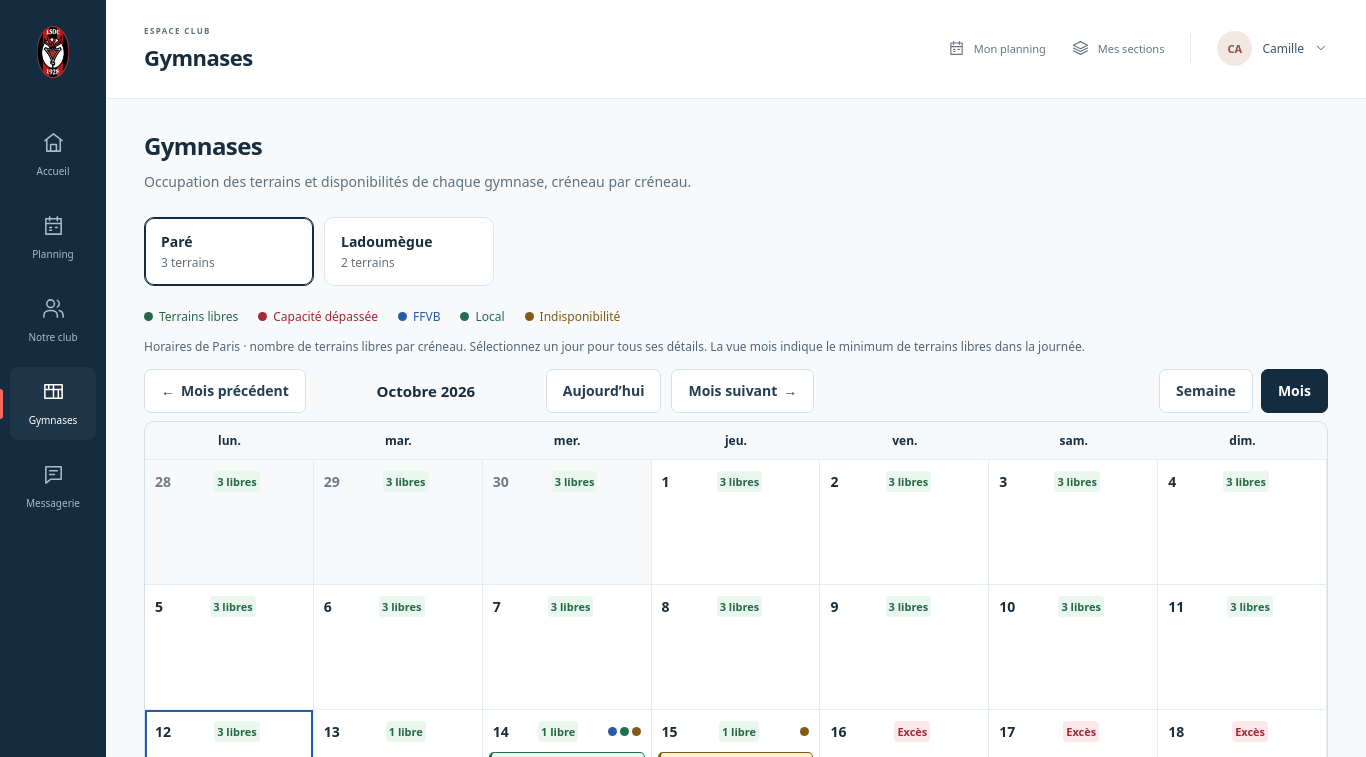
Scenario: charge 42 jours au mois et détaille les créneaux du jour choisi
The width and height of the screenshot is (1366, 757).
Click the button with aria-label "Voir les disponibilités du Jeudi 15 octobre". click: (736, 732)
box: [656, 714, 816, 750]
(page scrolled)
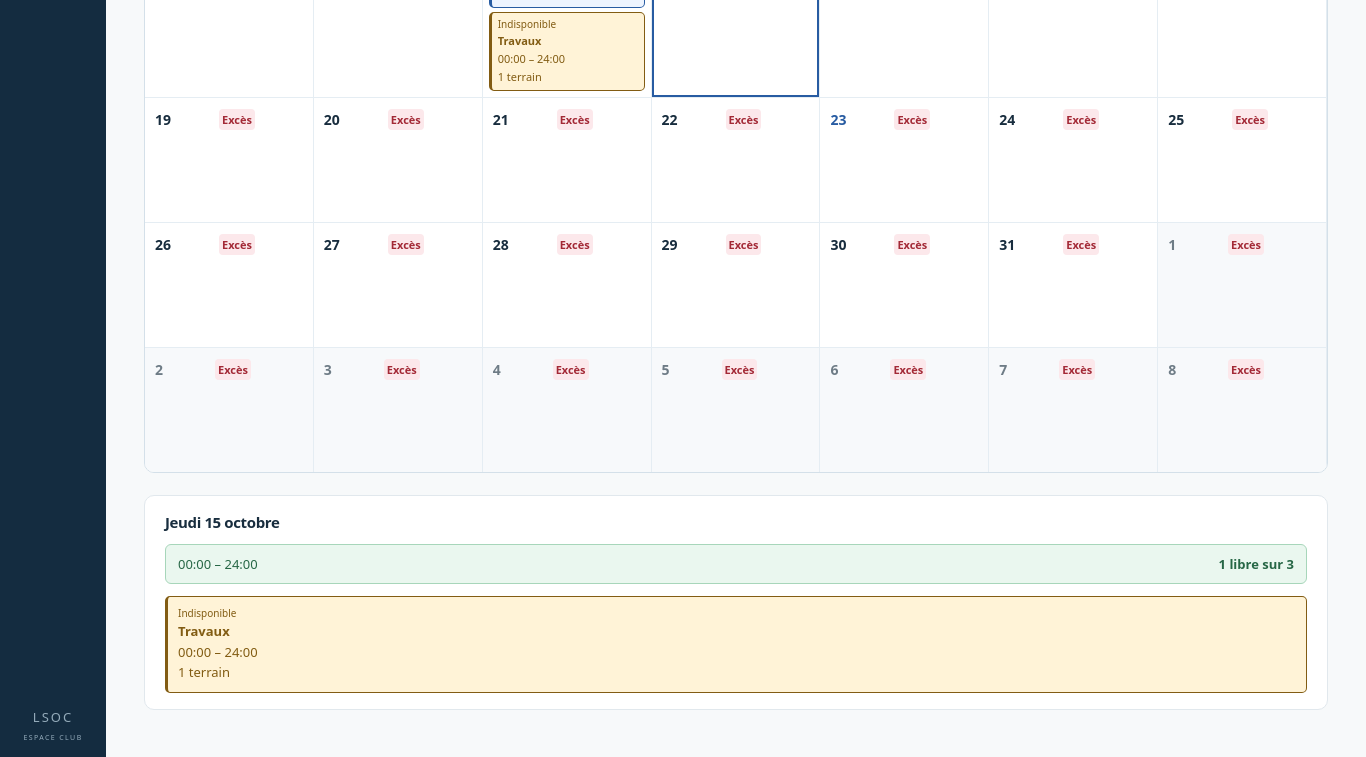
Expected: the element named "Disponibilités du Jeudi 15 octobre" shows "00:00 – 24:00", [178, 555, 258, 573]
Expected: the element named "Disponibilités du Jeudi 15 octobre" shows "1 libre sur 3", [1219, 555, 1294, 573]
Expected: the element named "Disponibilités du Jeudi 15 octobre" shows "Travaux", [178, 622, 230, 640]
